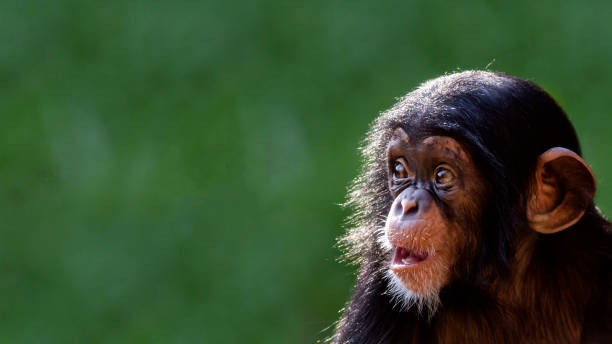chimpanzee: (302, 51, 605, 344)
